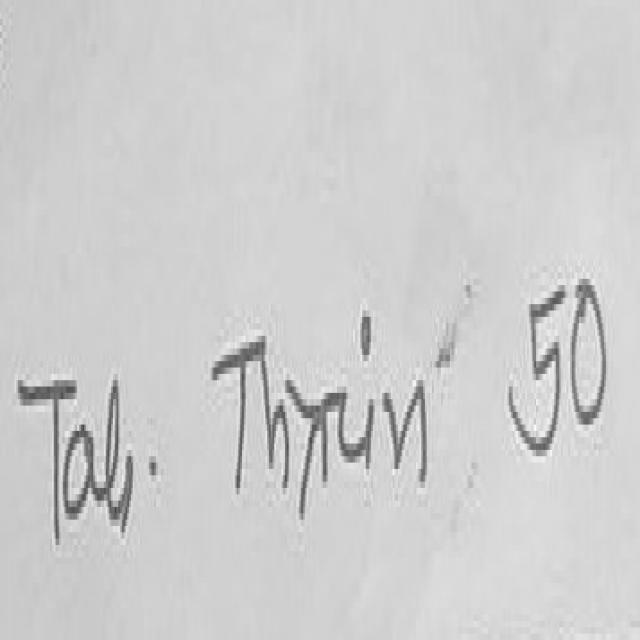0: (574, 279, 608, 425)
5: (511, 285, 566, 453)
T: (19, 380, 77, 542), (213, 336, 264, 491)
a: (63, 424, 108, 520)
b: (105, 380, 133, 543)
h: (263, 355, 289, 485)
i: (349, 399, 377, 478), (362, 310, 373, 358)
n: (379, 364, 427, 484)
r: (323, 393, 352, 478)
y: (288, 372, 321, 516)
